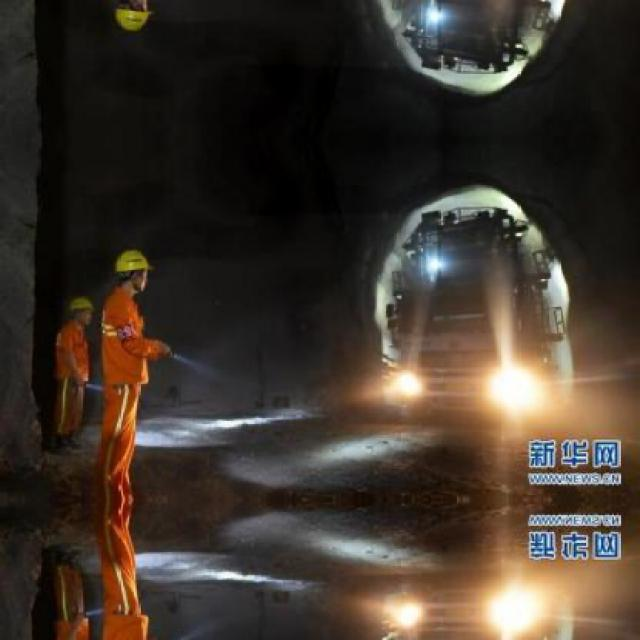helmet: (114, 244, 152, 296), (112, 0, 152, 39), (64, 293, 96, 330)
